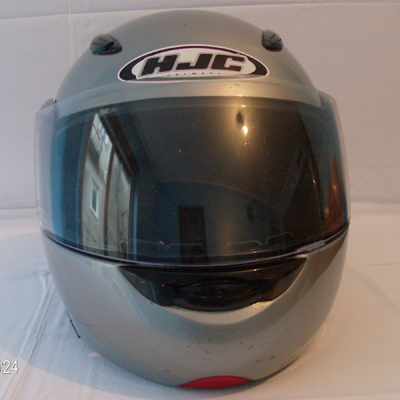helmet: (35, 17, 343, 376)
